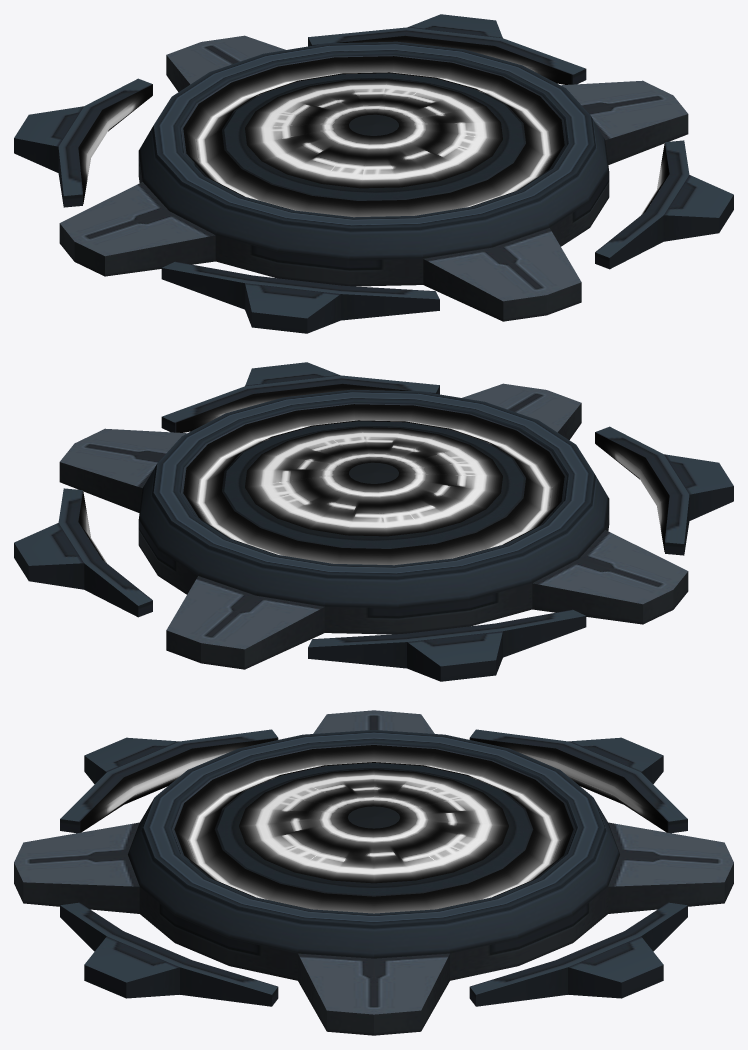
File: ts_xftz001.FBX
3 views of the same model, one above another, from view 1: azimuth 30°, elevation 25°; view 2: azimuth 150°, elevation 25°; view 3: azimuth 270°, elevation 25° (orthographic). The views are drawn at different scales.
Visible parts, largest first — view 1: ts_xftz001, ts_xftgow001; view 2: ts_xftz001, ts_xftgow001; view 3: ts_xftz001, ts_xftgow001.
Part boxes in pixels (<box>): ts_xftz001: <box>14,14,733,333</box>; ts_xftgow001: <box>78,36,669,217</box>; ts_xftz001: <box>14,362,733,681</box>; ts_xftgow001: <box>78,384,669,565</box>; ts_xftz001: <box>14,710,733,1035</box>; ts_xftgow001: <box>80,738,667,913</box>.
Size of the model in its own units: 5.61 by 0.5759 by 5.61.
Materials: 2 (2 with a texture image).
